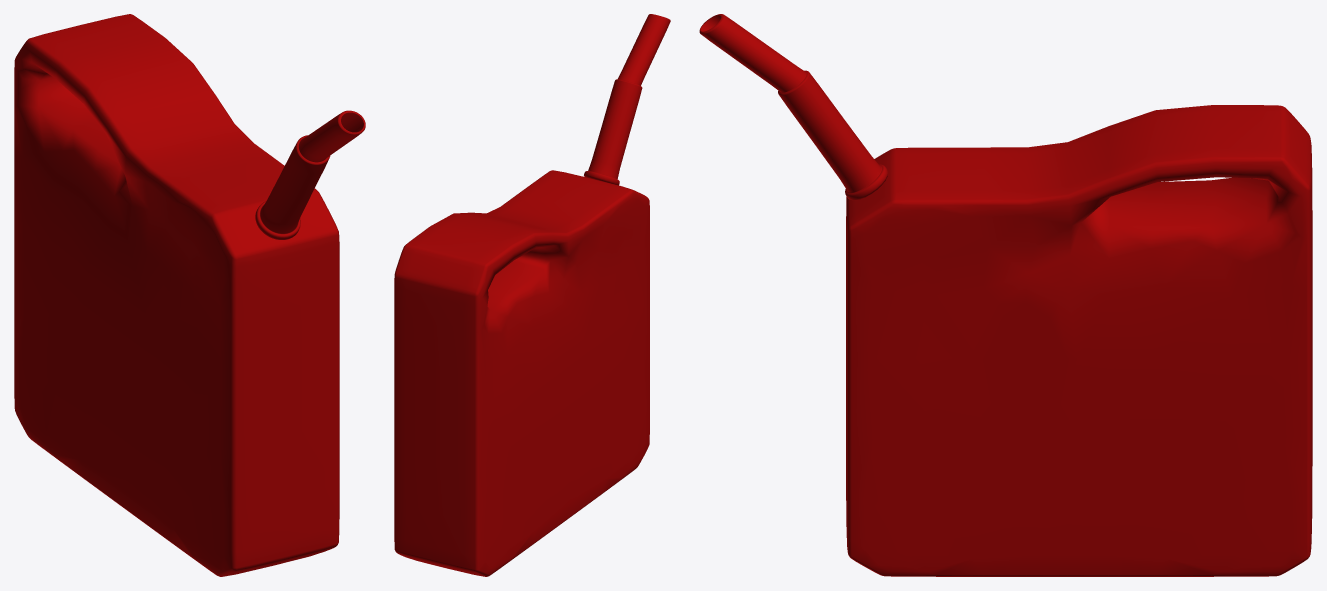
Rendered from jug.fbx.
3 renders of one model, left to right at view 1: azimuth 30°, elevation 25°; view 2: azimuth 150°, elevation 25°; view 3: azimuth 270°, elevation 25°, orthographic. The views are drawn at different scales.
Parts seen in each view (by area): view 1: gf; view 2: gf; view 3: gf.
Part boxes in pixels (x1,y1,x2,y2): gf: [14, 14, 365, 576]; gf: [394, 14, 670, 576]; gf: [699, 14, 1312, 576].
Bounding box in the file's own units: 0.2879 × 1.27 × 1.31.
